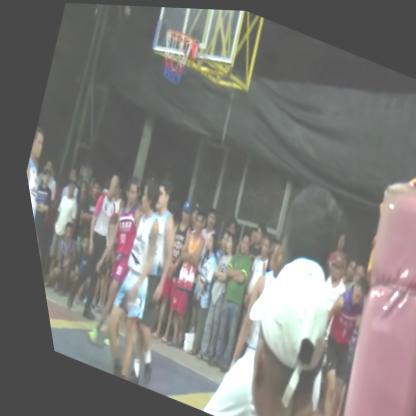rim: (142, 14, 210, 96)
